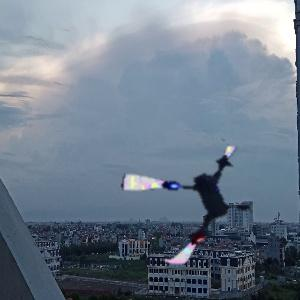drone: (120, 134, 262, 276)
